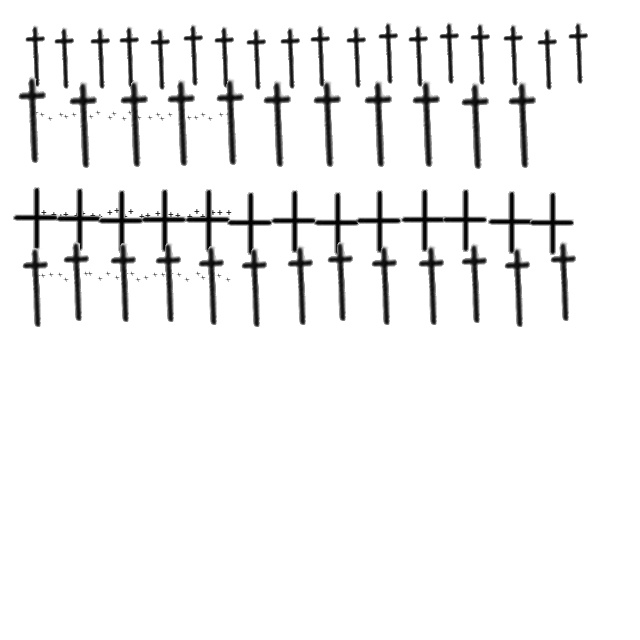double: (10, 187, 60, 251), (53, 188, 103, 252), (95, 190, 145, 254), (138, 189, 188, 253), (182, 189, 232, 253), (224, 192, 274, 256), (268, 190, 318, 254), (311, 192, 361, 256), (353, 190, 403, 254), (398, 189, 448, 253), (439, 189, 489, 253), (485, 191, 535, 255), (526, 192, 576, 256), (33, 110, 39, 116), (39, 112, 45, 118), (47, 116, 53, 122), (58, 112, 64, 118), (63, 114, 69, 120), (71, 112, 77, 118), (80, 116, 86, 122), (88, 114, 94, 120), (95, 110, 101, 116), (121, 116, 127, 122), (127, 110, 133, 116), (155, 112, 161, 118), (159, 116, 165, 122), (167, 112, 173, 118), (200, 112, 206, 118), (207, 116, 213, 122), (218, 112, 224, 118), (225, 112, 231, 118), (41, 210, 47, 216), (51, 212, 57, 218), (58, 214, 64, 220), (63, 212, 69, 218), (97, 214, 103, 220), (107, 210, 113, 216), (114, 208, 120, 214), (122, 214, 128, 220), (139, 214, 145, 220), (168, 212, 174, 218), (187, 214, 193, 220), (200, 214, 206, 220), (210, 210, 216, 216), (217, 210, 223, 216), (226, 210, 232, 216), (48, 272, 54, 278), (57, 272, 63, 278), (97, 276, 103, 282), (152, 272, 158, 278), (160, 272, 166, 278), (176, 272, 182, 278), (107, 116, 113, 120), (111, 112, 117, 116), (136, 116, 142, 120), (147, 116, 153, 120), (179, 112, 185, 116), (186, 116, 192, 120), (193, 116, 199, 120), (32, 214, 38, 218), (74, 214, 80, 218), (80, 212, 86, 216), (90, 214, 96, 218), (128, 210, 134, 214), (145, 214, 151, 218), (155, 212, 161, 216), (162, 212, 168, 216), (175, 214, 181, 218), (194, 210, 200, 214), (35, 274, 41, 278), (40, 274, 46, 278), (63, 278, 69, 282), (75, 278, 81, 282), (83, 272, 89, 276), (87, 272, 93, 276), (105, 272, 111, 276), (114, 276, 120, 280), (123, 272, 129, 276), (129, 272, 135, 276), (135, 278, 141, 282), (143, 276, 149, 280), (168, 272, 174, 276), (184, 278, 190, 282), (195, 272, 201, 276), (200, 276, 206, 280), (210, 274, 216, 278), (216, 274, 222, 278), (225, 278, 231, 282)
enseble_chain: (8, 76, 60, 166), (110, 80, 162, 170), (206, 78, 258, 168), (253, 80, 305, 170), (303, 80, 355, 170), (354, 80, 406, 170), (402, 80, 454, 170), (451, 82, 503, 172), (59, 82, 111, 170), (157, 80, 209, 168), (498, 82, 550, 170), (13, 247, 61, 329), (54, 241, 102, 323), (101, 242, 149, 324), (146, 242, 194, 324), (189, 245, 237, 327), (232, 247, 280, 329), (278, 245, 326, 327), (318, 241, 366, 323), (362, 245, 410, 327), (409, 245, 457, 327), (452, 243, 500, 325), (495, 247, 543, 329), (541, 241, 589, 323), (112, 26, 150, 90), (176, 24, 214, 88), (432, 22, 470, 86), (496, 24, 534, 88), (530, 28, 568, 92), (18, 26, 56, 88), (144, 28, 180, 92), (208, 26, 244, 90), (240, 28, 276, 92), (340, 26, 376, 90), (372, 22, 408, 86), (562, 22, 598, 86), (48, 28, 84, 90), (84, 28, 120, 90), (274, 28, 310, 90), (304, 26, 340, 88), (402, 26, 438, 88), (464, 24, 500, 86)
